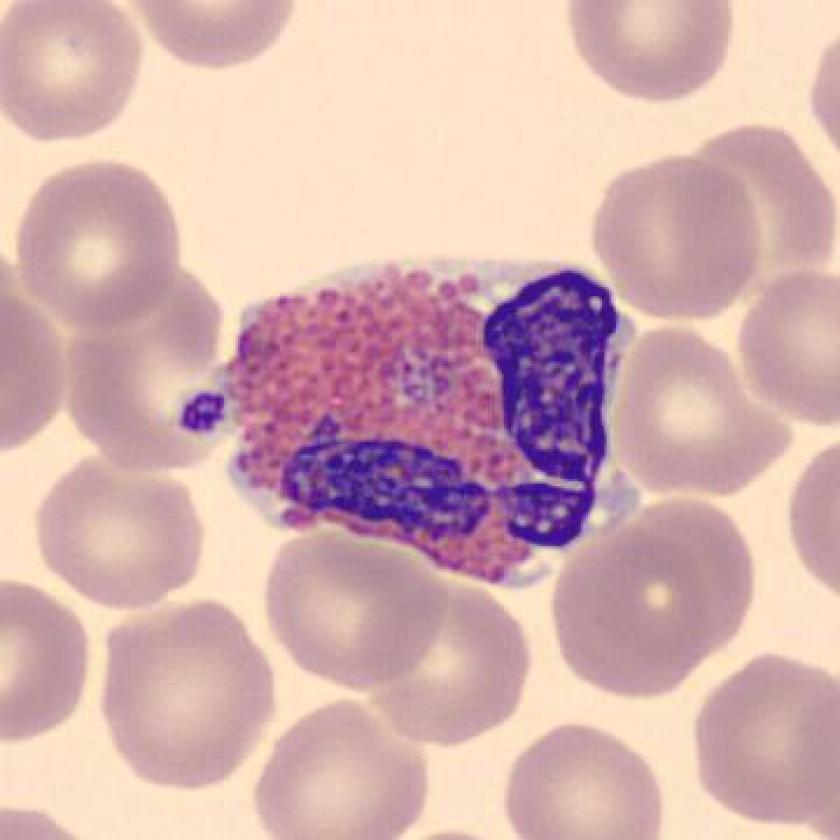eosinophil: (197, 246, 650, 596)
